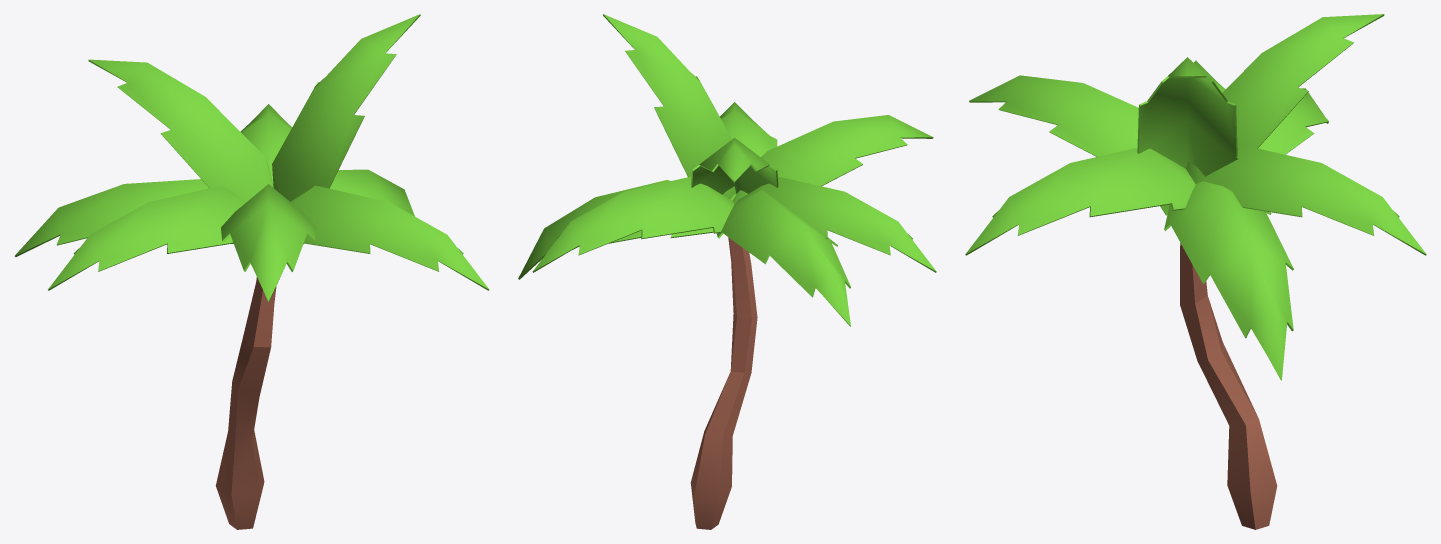
Rendered from SM_Palmier.FBX.
3 views of the same model, side by side, from view 1: azimuth 30°, elevation 25°; view 2: azimuth 150°, elevation 25°; view 3: azimuth 270°, elevation 25° (orthographic). The views are drawn at different scales.
Parts seen in each view (by area): view 1: Object002, Object001; view 2: Object002, Object001; view 3: Object002, Object001.
Part boxes in pixels (bbox=[...]): Object002: bbox=[14, 14, 489, 302]; Object001: bbox=[215, 277, 276, 529]; Object002: bbox=[518, 14, 936, 326]; Object001: bbox=[690, 237, 757, 529]; Object002: bbox=[965, 14, 1426, 380]; Object001: bbox=[1180, 243, 1277, 529].
Bounding box in the file's own units: 702 × 804 × 645.
